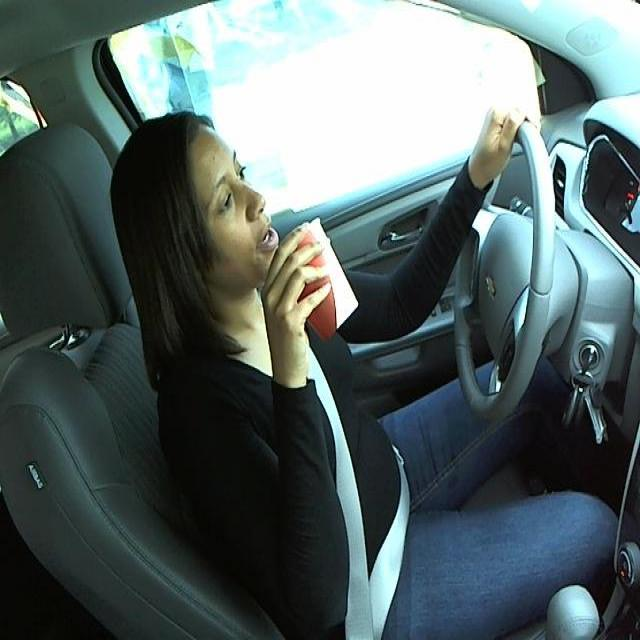drinking: (272, 218, 360, 337)
